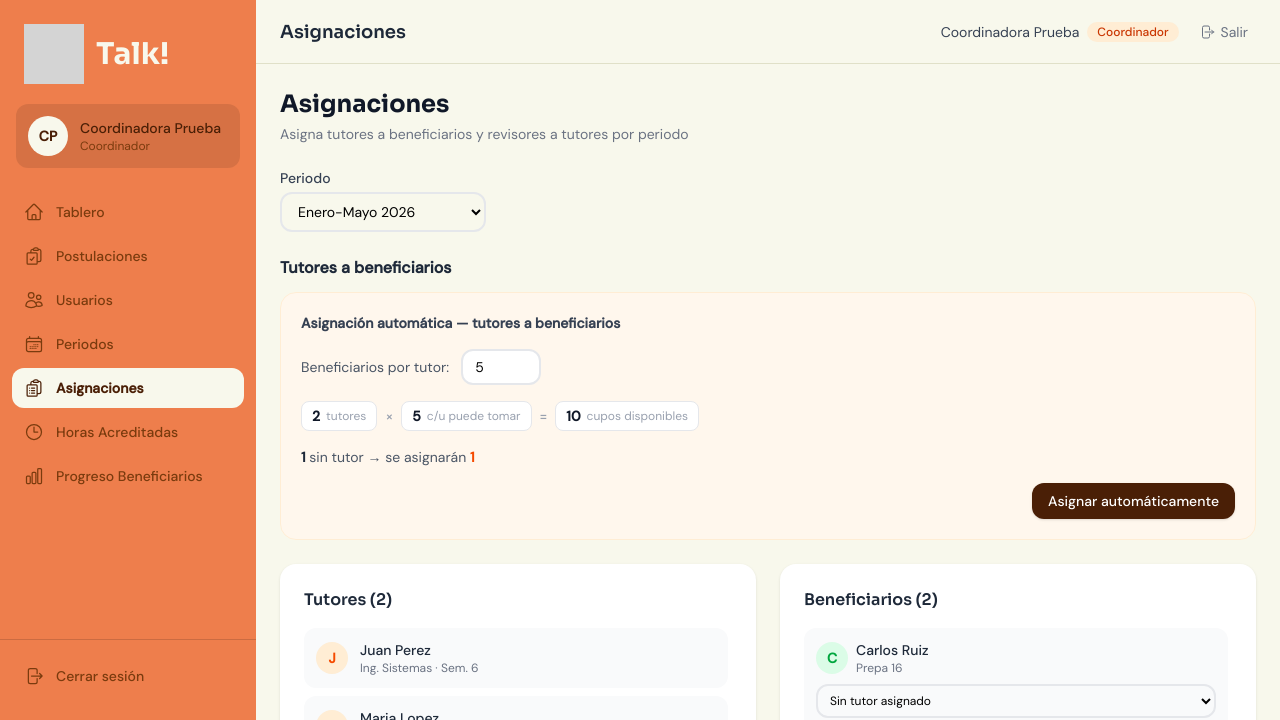
Scenario: Asignaciones › handles error when assignment fails
This screenshot has width=1280, height=720.
Select "Juan Perez" in the dropdown below "Carlos Ruiz" at (1016, 701), box x1=816 y1=684 x2=1216 y2=718
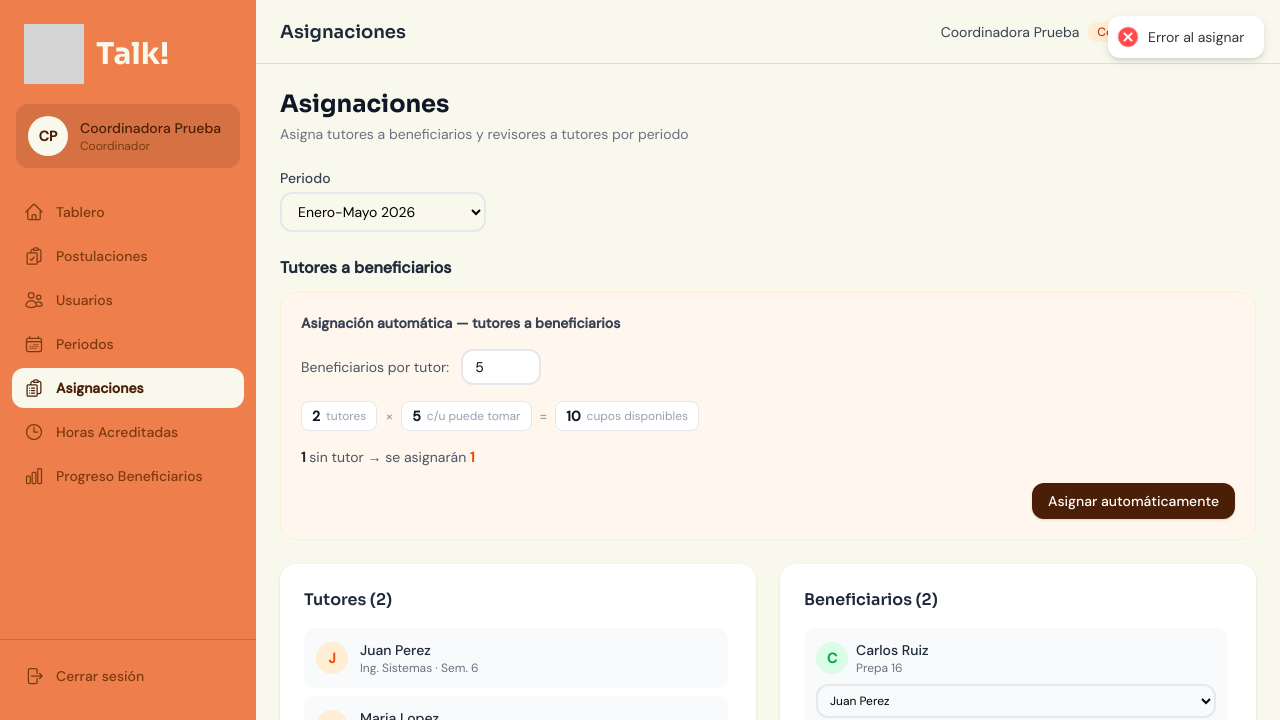
Expected: the text "Error al asignar" is shown, x1=1148 y1=28 x2=1244 y2=46
